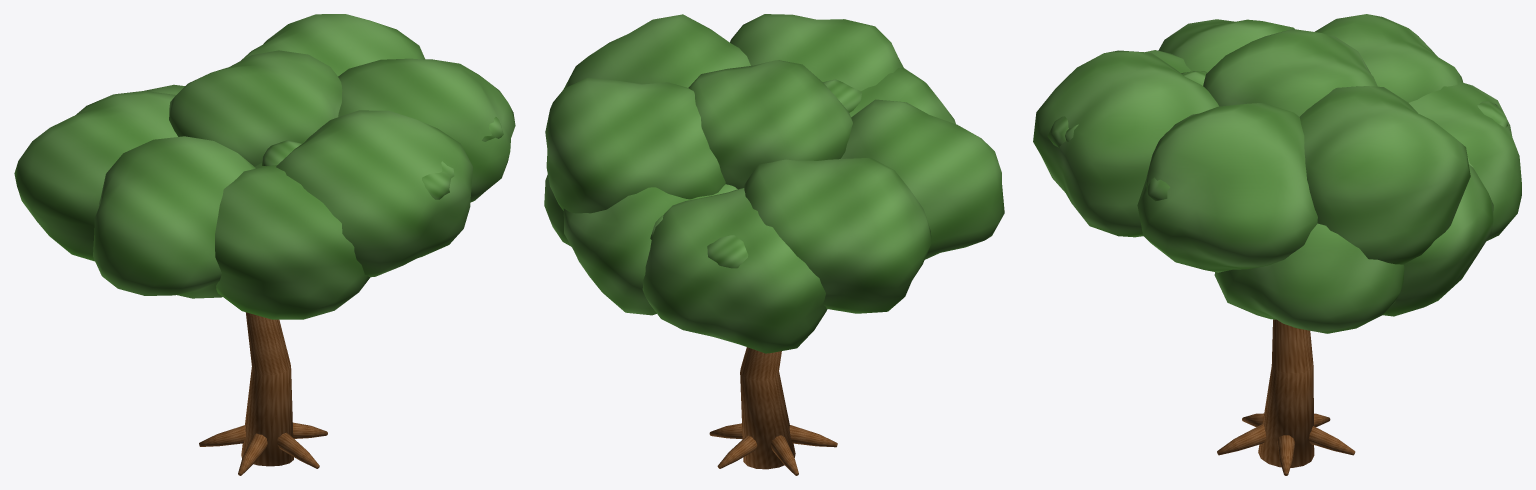
File: orchard_apple.glb
3 views of the same model, side by side, from view 1: azimuth 30°, elevation 25°; view 2: azimuth 150°, elevation 25°; view 3: azimuth 270°, elevation 25° (orthographic). The views are drawn at different scales.
Visible parts, largest first — view 1: orchard_apple.002; view 2: orchard_apple.002; view 3: orchard_apple.002.
Part boxes in pixels (x1,y1,x2,y2): orchard_apple.002: [14, 14, 515, 475]; orchard_apple.002: [544, 14, 1004, 475]; orchard_apple.002: [1033, 14, 1521, 475].
Size of the model in its own units: 7.79 by 6.99 by 7.48.
1 material, 1 textured.
